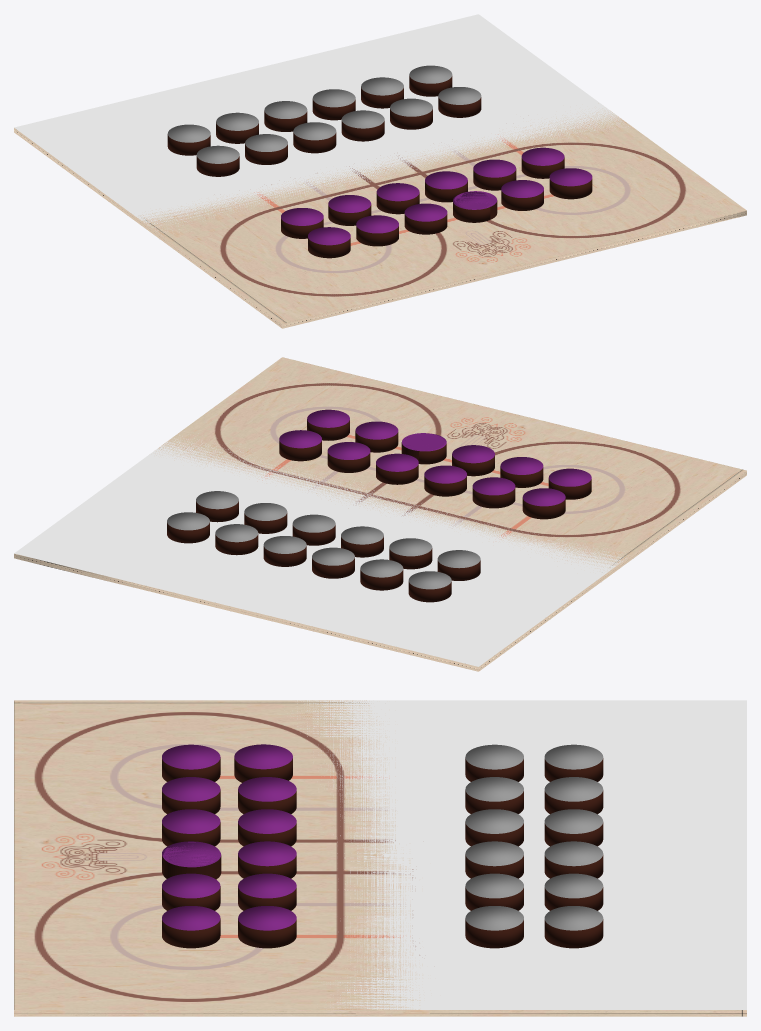
Rendered from siga.glb.
The picture shows the model from 3 angles, top to bottom: view 1: azimuth 30°, elevation 25°; view 2: azimuth 150°, elevation 25°; view 3: azimuth 270°, elevation 25°; orthographic projection. The views are drawn at different scales.
Parts seen in each view (by area): view 1: Cube, Plane, Cylinder.015, Cylinder.010, Cylinder.009, Cylinder.007, Cylinder.018, Cylinder.012, Cylinder.011, Cylinder.014, Cylinder.013, Cylinder.008 (+15 smaller); view 2: Plane, Cube, Cylinder, Cylinder.002, Cylinder.020, Cylinder.019, Cylinder.005, Cylinder.004, Cylinder.023, Cylinder.003, Cylinder.006, Cylinder.021 (+14 smaller); view 3: Plane, Cube, Cylinder.006, Cylinder.012, Cylinder.018, Cylinder.024, Cylinder.003, Cylinder.002, Cylinder.004, Cylinder.005, Cylinder.019, Cylinder (+15 smaller).
Boxes of the visible parts, left/top/right/bottom form: Cube: left=14, top=103, right=746, bottom=328; Plane: left=14, top=14, right=628, bottom=232; Cylinder.015: left=404, top=203, right=447, bottom=234; Cylinder.010: left=341, top=110, right=384, bottom=141; Cylinder.009: left=293, top=122, right=336, bottom=153; Cylinder.007: left=196, top=145, right=239, bottom=176; Cylinder.018: left=549, top=168, right=592, bottom=199; Cylinder.012: left=438, top=87, right=481, bottom=117; Cylinder.011: left=390, top=98, right=432, bottom=129; Cylinder.014: left=356, top=215, right=398, bottom=246; Cylinder.013: left=308, top=227, right=350, bottom=258; Cylinder.008: left=245, top=134, right=287, bottom=164; Plane: left=14, top=433, right=626, bottom=666; Cube: left=14, top=357, right=746, bottom=671; Cylinder: left=408, top=571, right=451, bottom=602; Cylinder.002: left=360, top=559, right=403, bottom=590; Cylinder.020: left=472, top=477, right=515, bottom=508; Cylinder.019: left=522, top=488, right=565, bottom=519; Cylinder.005: left=215, top=524, right=258, bottom=555; Cylinder.004: left=263, top=536, right=306, bottom=566; Cylinder.023: left=327, top=442, right=370, bottom=472; Cylinder.003: left=312, top=547, right=354, bottom=578; Cylinder.006: left=167, top=512, right=209, bottom=543; Cylinder.021: left=424, top=465, right=466, bottom=496; Plane: left=297, top=700, right=746, bottom=1009; Cube: left=14, top=700, right=746, bottom=1016; Cylinder.006: left=544, top=906, right=603, bottom=948; Cylinder.012: left=465, top=906, right=523, bottom=948; Cylinder.018: left=162, top=906, right=220, bottom=948; Cylinder.024: left=238, top=906, right=296, bottom=948; Cylinder.003: left=544, top=809, right=603, bottom=846; Cylinder.002: left=544, top=777, right=603, bottom=814; Cylinder.004: left=544, top=841, right=603, bottom=878; Cylinder.005: left=544, top=873, right=603, bottom=910; Cylinder.019: left=234, top=744, right=292, bottom=782; Cylinder: left=544, top=744, right=603, bottom=781.
Bounding box in the file's own units: 3 × 0.1101 × 3.
8 materials, 1 textured.
